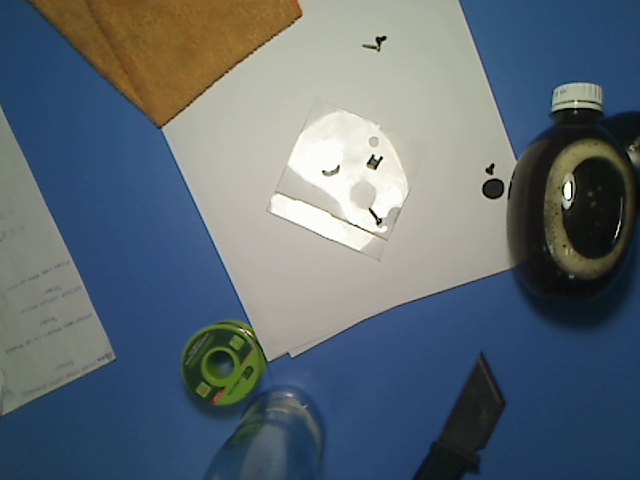plast_bottle: (503, 79, 640, 301)
